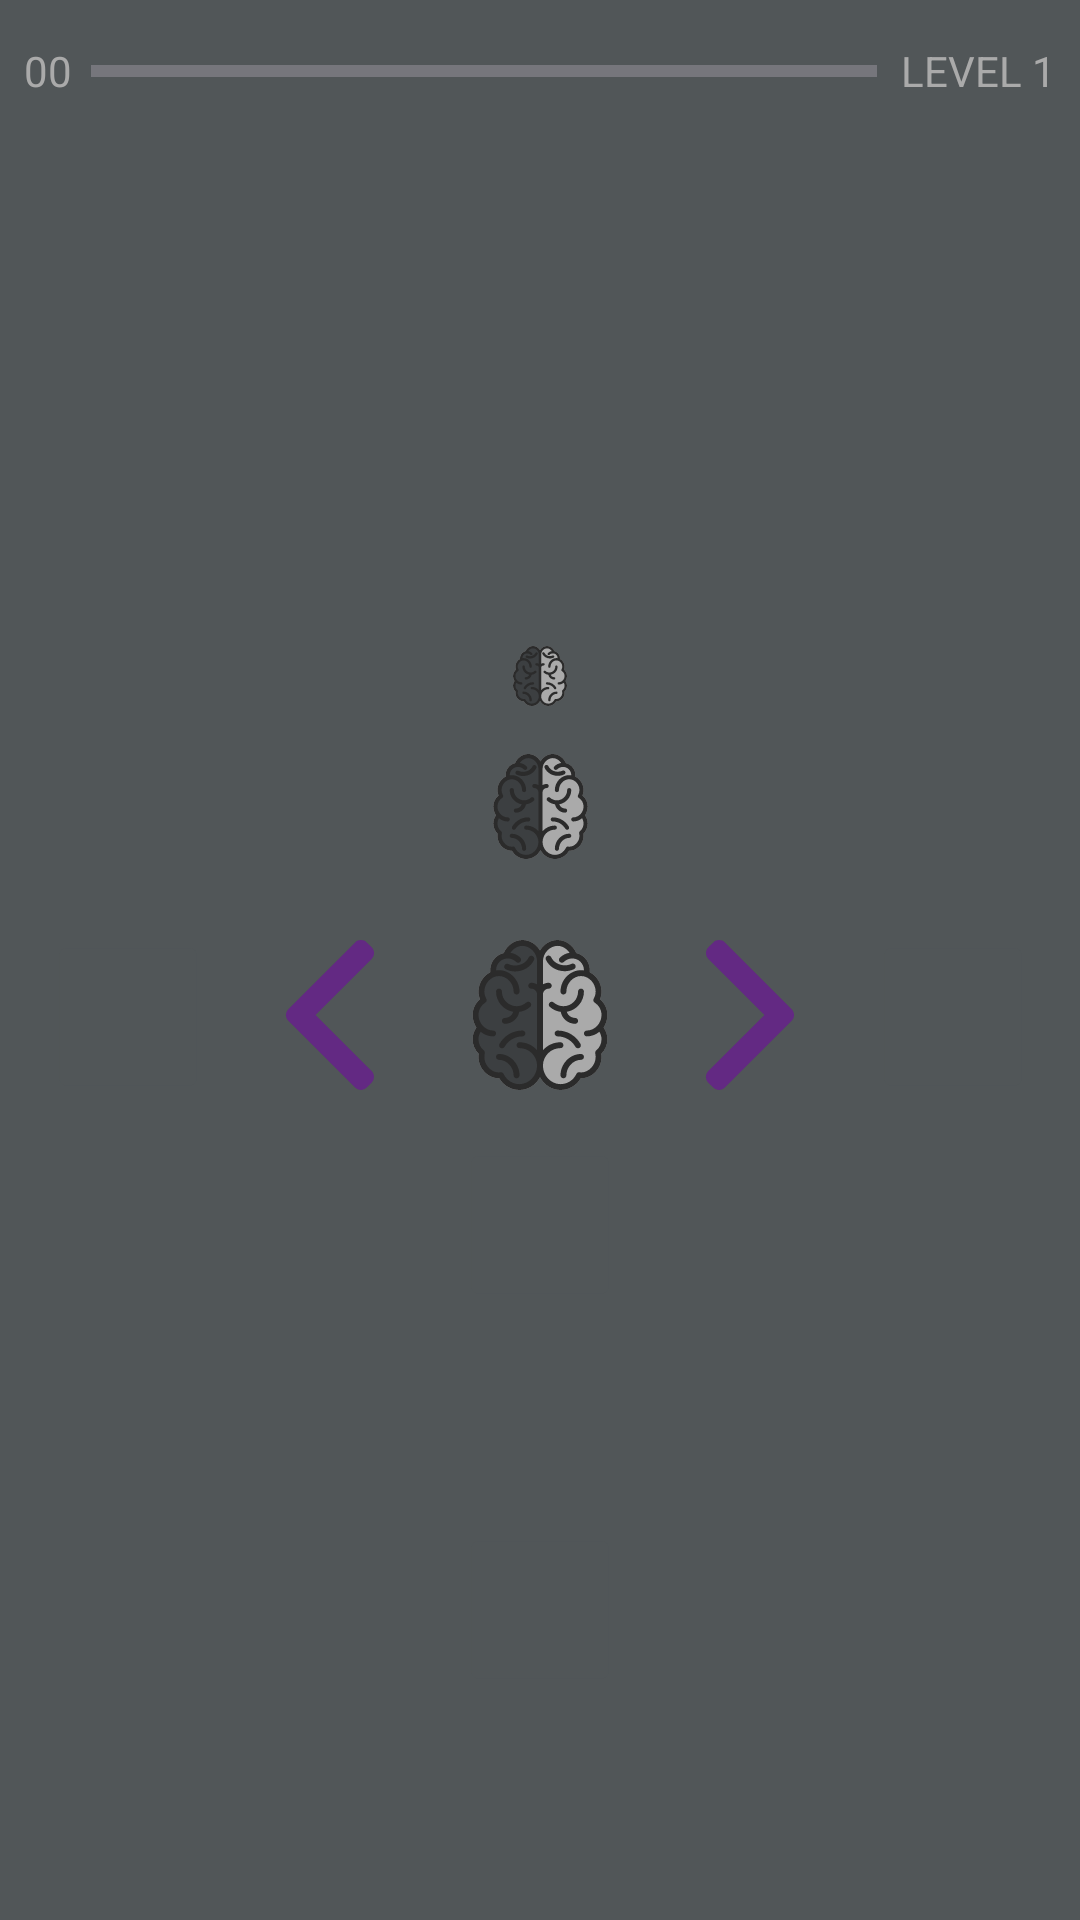

Where to tap for icons on this 1080×1920 app screen, as (x,y):
arrow left: (330,1015)
arrow right: (750,1015)
brain: (540,676), (540,806), (540,1015)
